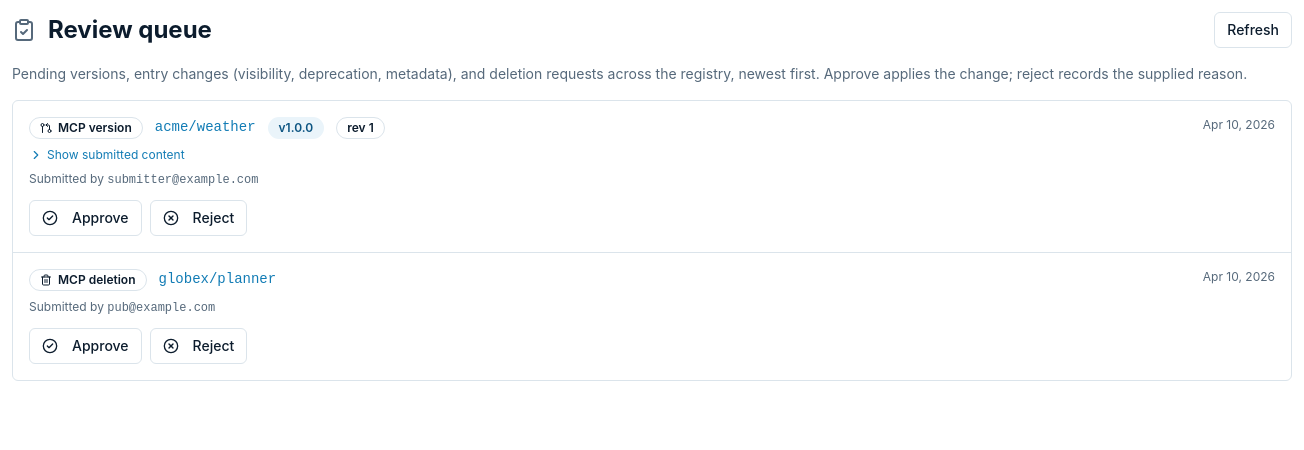
Test case: AdminReviewQueue › reject submit is disabled until a reason is typed
Click the button "Reject" below "MCP version" at (198, 218), box top-left (150, 200), bottom-right (247, 236)
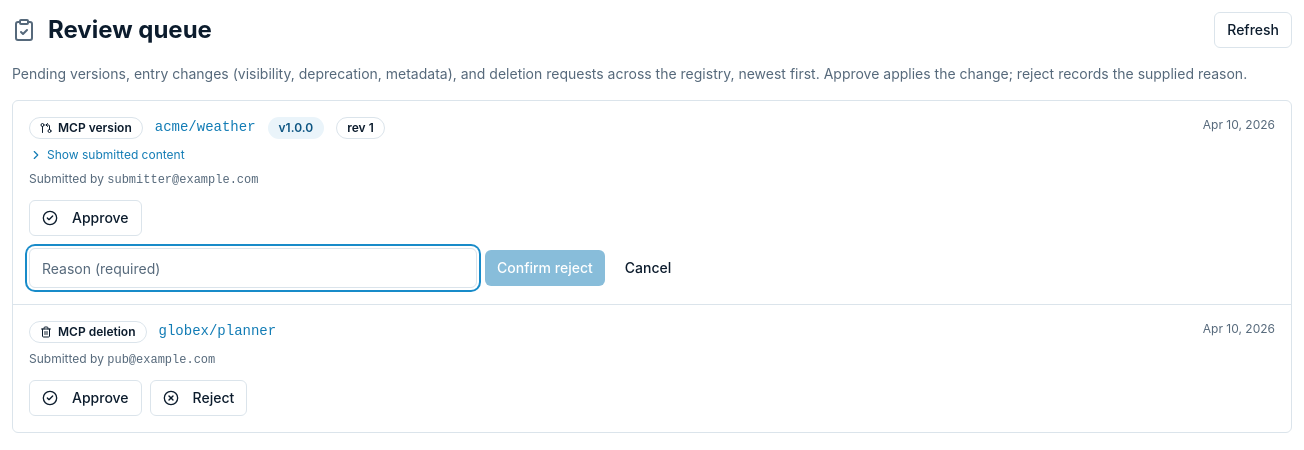
Expected: the button "Confirm reject" is disabled, top-left (485, 250), bottom-right (605, 286)
